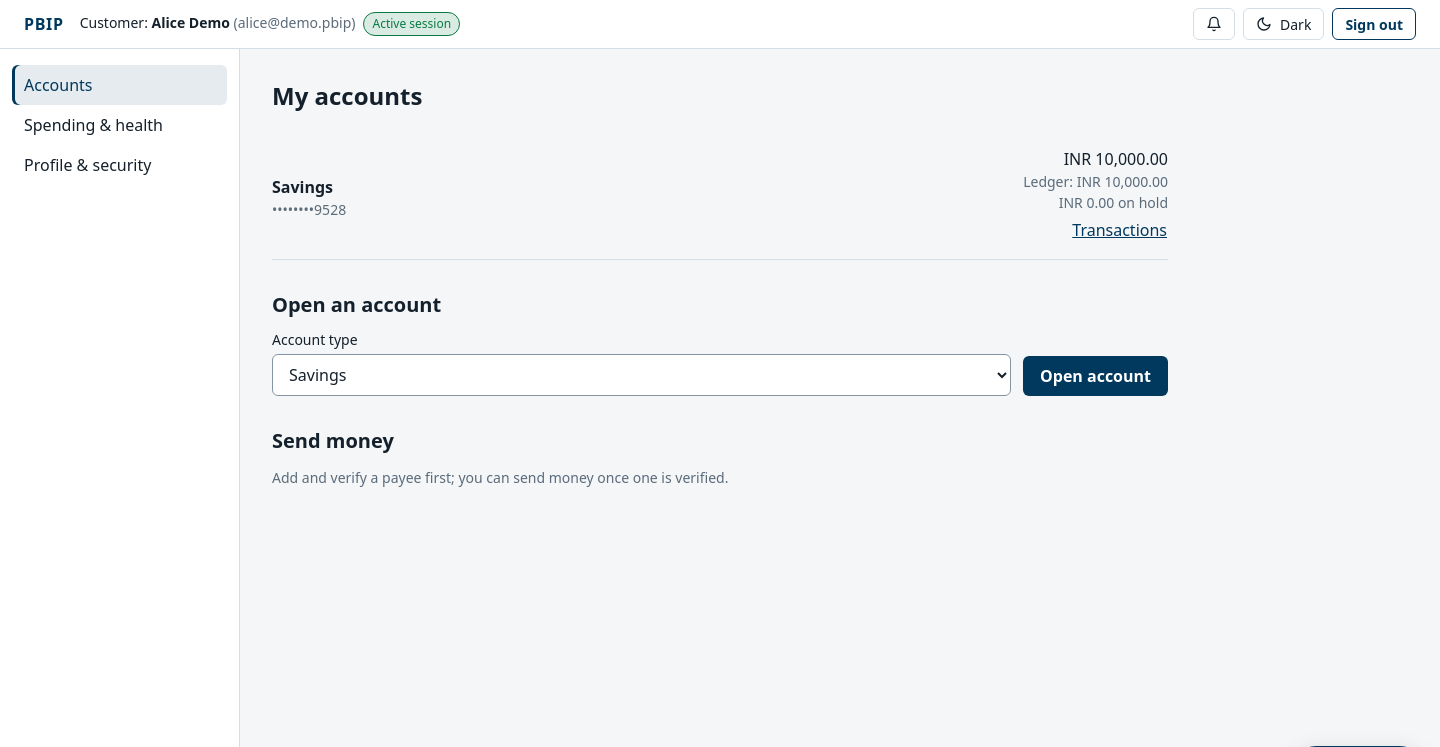
Test: profile & security › shows the profile with masked phone and the registered devices
This screenshot has width=1440, height=747.
Click the link "Profile & security".
click(88, 165)  # box [24,154,151,176]
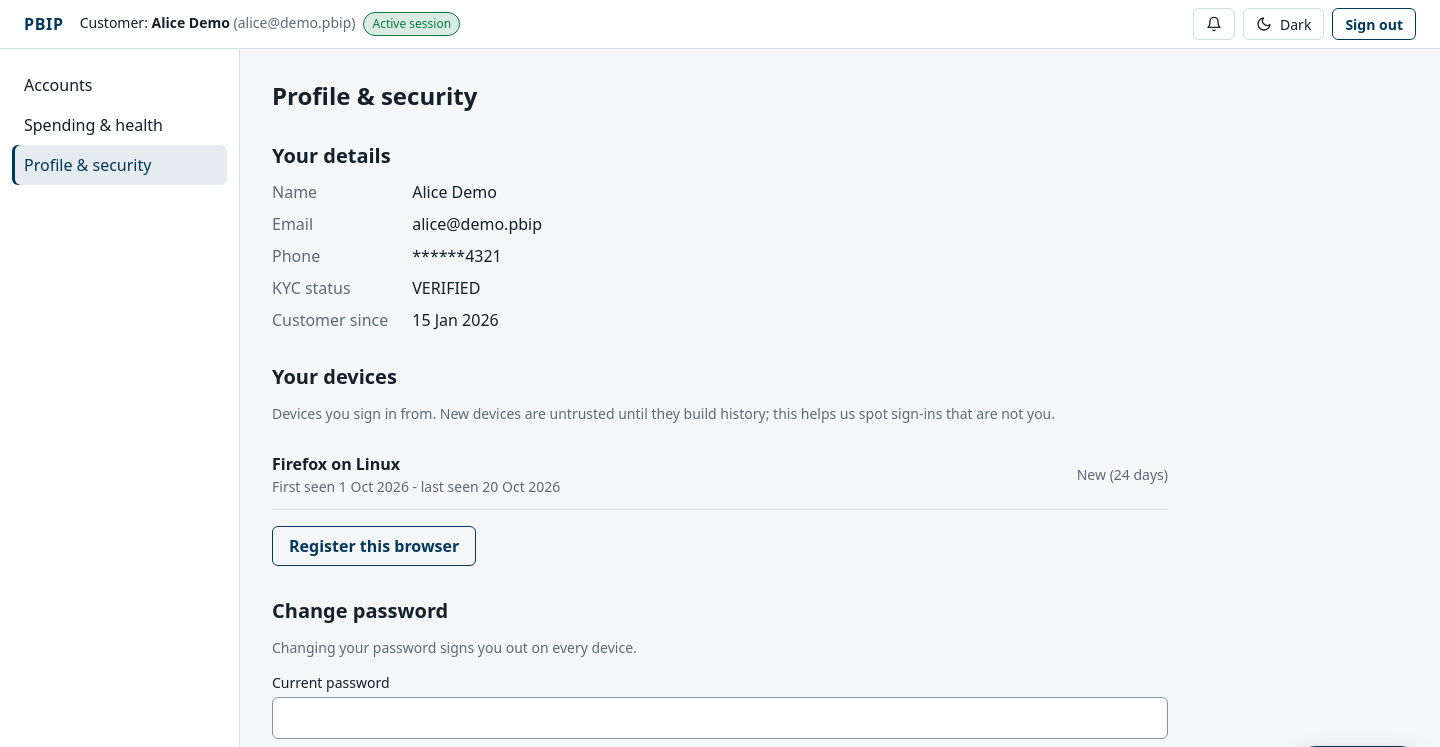
Check: the text "******4321" is shown, box [412,245,502,267]
Check: the text "Firefox on Linux" is shown, box [272,453,400,475]
Check: the text "New (24 days)" is shown, box [1077,464,1168,485]
